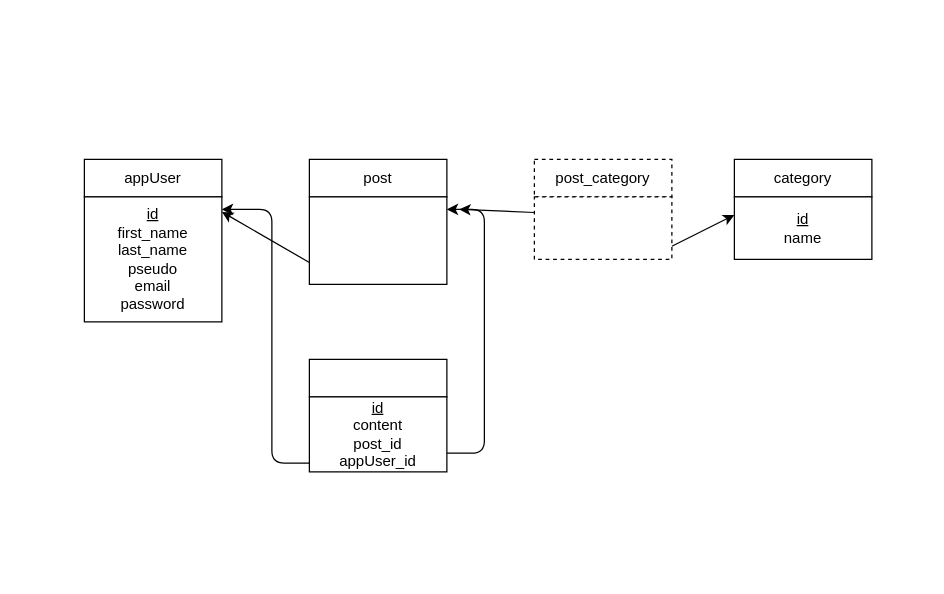
Some shapes in this 944 by 594 pixel diagram are drawn without their labels. Each missing label, with the box of its shape:
comment: (308, 358, 447, 397)
id title content appUser_id: (308, 196, 447, 284)
post_id category_id: (533, 196, 672, 259)
